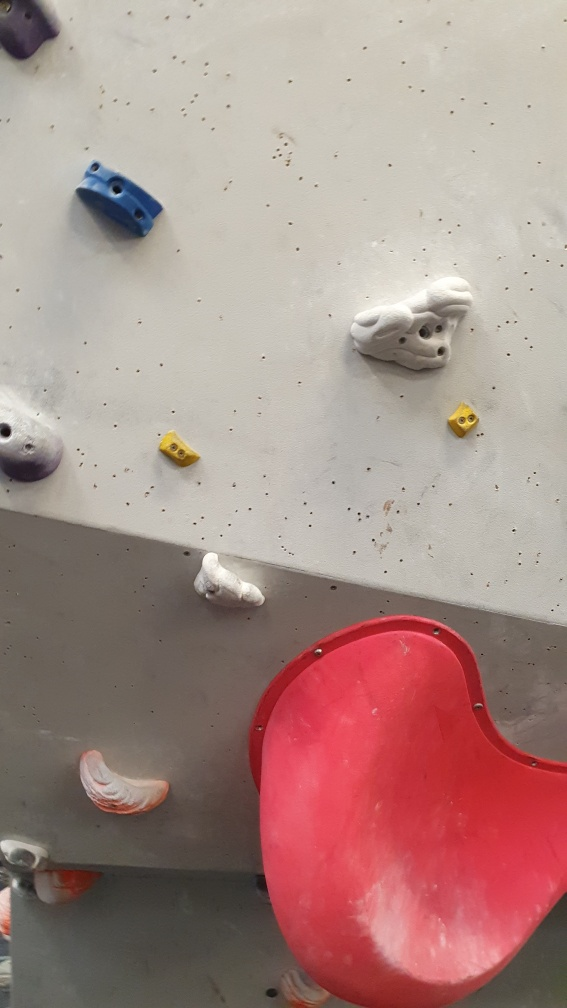Crimp: (153, 424, 209, 476)
Jug: (350, 272, 478, 377), (73, 746, 177, 818), (188, 551, 276, 613)
Pinch: (72, 154, 167, 241), (444, 400, 485, 442)
Sloper: (1, 383, 71, 491)
